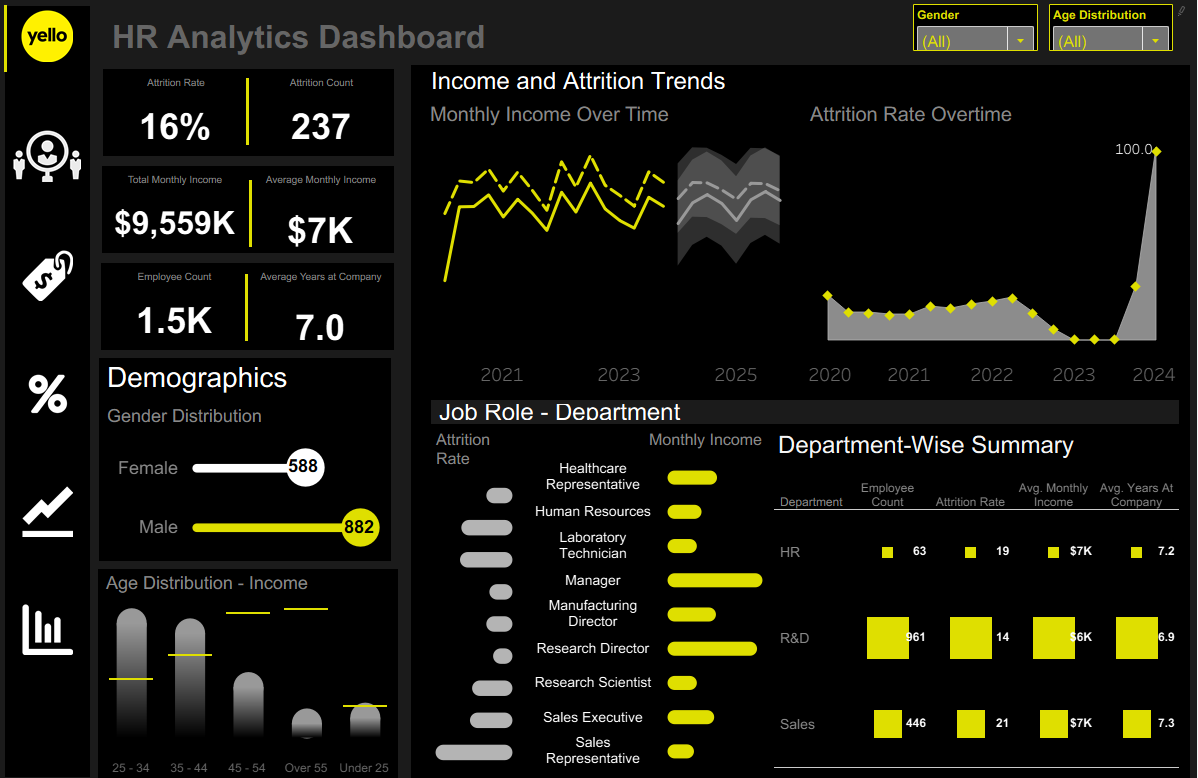

The page's visual inventory and layout, read from the dashboard file:
{"tool":"tableau","page":{"name":"Dashboard 1","canvas":[1200,900],"ordinal":0},"visuals":[{"type":"legend","title":"Gender Distribution","param":"[federated.1jf8b2614a0inf17n2bok13ag4y0].[none:Gender:nk]","box":[0,0,1200,84]},{"type":"filter","title":"Gender Distribution","param":"[federated.1jf8b2614a0inf17n2bok13ag4y0].[none:Gender:nk]","box":[915,10,125,47]},{"type":"filter","title":"Age Distribution - Income","param":"[federated.1jf8b2614a0inf17n2bok13ag4y0].[none:CF_age band:nk]","box":[1051,10,124,47]},{"type":"blank","box":[6,11,3,67]},{"type":"image","param":"Image/Tableau Image 1.png","box":[7,12,85,60]},{"type":"text","box":[106,21,1084,44]},{"type":"blank","box":[7,72,85,60]},{"type":"text","box":[425,74,754,25]},{"type":"worksheet","title":"KPI Rate","mark":"Automatic","box":[105,75,146,87]},{"type":"worksheet","title":"KPI Attrition Count","mark":"Automatic","box":[251,75,145,87]},{"type":"blank","box":[248,84,3,67]},{"type":"worksheet","title":"Monthly Income Over Time","mark":"Automatic","rows":["Monthly Income","Monthly Income"],"cols":["Date"],"box":[424,101,380.5,295]},{"type":"worksheet","title":"Attrition Rate Over Time","mark":"Area","rows":["Calculation_1200772278852063233","Calculation_1200772278852063233"],"cols":["Date"],"box":[804.5,101,380.5,295]},{"type":"image","param":"Image/Tableau Image 2.png","box":[7,132,85,60]},{"type":"worksheet","title":"KPI Total Monthly Income","mark":"Automatic","box":[104,172,146,87]},{"type":"worksheet","title":"KPI AVG Monthly Income","mark":"Automatic","box":[250,172,146,87]},{"type":"blank","box":[251,186,3,67]},{"type":"blank","box":[7,192,85,60]},{"type":"image","param":"Image/Tableau Image 3.png","box":[7,252,85,59]},{"type":"worksheet","title":"KPI Employee Count","mark":"Automatic","box":[103,269,147,87]},{"type":"worksheet","title":"KPI AVG Years at Company","mark":"Automatic","box":[250,269,146,87]},{"type":"blank","box":[247,280,3,67]},{"type":"blank","box":[7,311,85,59]},{"type":"text","box":[101,364,292,40]},{"type":"image","param":"Image/Tableau Image 4.png","box":[7,370,85,59]},{"type":"worksheet","title":"Gender Distribution","mark":"Line","rows":["Gender"],"cols":["Employee Count"],"box":[101,404,292,163]},{"type":"text","box":[433,406,748,24]},{"type":"blank","box":[7,429,85,59]},{"type":"worksheet","title":"Job Role - Department","mark":"Line","rows":["Job Role"],"box":[430,429,91,349]},{"type":"worksheet","title":"Job Role - Department2","mark":"Line","rows":["Job Role"],"box":[521,429,251,349]},{"type":"worksheet","title":"Department-Wise Summary","mark":"Square","rows":["Department"],"box":[772,429,413,349]},{"type":"image","param":"Image/Tableau Image 5.png","box":[7,488,85,59]},{"type":"blank","box":[7,547,85,59]},{"type":"text","box":[100,575,300,29]},{"type":"worksheet","title":"Age Distribution - Income","mark":"Automatic","rows":["Monthly Income"],"cols":["CF_age band"],"box":[100,604,300,184]},{"type":"image","param":"Image/Tableau Image 6.png","box":[7,606,85,59]},{"type":"blank","box":[7,665,85,59]},{"type":"blank","box":[7,724,85,59]}]}

Visuals, with their boxes on the page's 1200x900 design canvas (x1, y1, x2, y2). These are canvas units, not pixel positions in the 1198x778 screenshot, which may show the page scaled, cropped or inside an application window:
"Gender Distribution" legend: crop(0, 0, 1200, 84)
"Gender Distribution" filter: crop(915, 10, 1040, 57)
"Age Distribution - Income" filter: crop(1051, 10, 1175, 57)
blank: crop(6, 11, 9, 78)
image: crop(7, 12, 92, 72)
text: crop(106, 21, 1190, 65)
blank: crop(7, 72, 92, 132)
text: crop(425, 74, 1179, 99)
"KPI Rate" worksheet: crop(105, 75, 251, 162)
"KPI Attrition Count" worksheet: crop(251, 75, 396, 162)
blank: crop(248, 84, 251, 151)
"Monthly Income Over Time" worksheet: crop(424, 101, 804, 396)
"Attrition Rate Over Time" worksheet (Area marks): crop(804, 101, 1185, 396)
image: crop(7, 132, 92, 192)
"KPI Total Monthly Income" worksheet: crop(104, 172, 250, 259)
"KPI AVG Monthly Income" worksheet: crop(250, 172, 396, 259)
blank: crop(251, 186, 254, 253)
blank: crop(7, 192, 92, 252)
image: crop(7, 252, 92, 311)
"KPI Employee Count" worksheet: crop(103, 269, 250, 356)
"KPI AVG Years at Company" worksheet: crop(250, 269, 396, 356)
blank: crop(247, 280, 250, 347)
blank: crop(7, 311, 92, 370)
text: crop(101, 364, 393, 404)
image: crop(7, 370, 92, 429)
"Gender Distribution" worksheet (Line marks): crop(101, 404, 393, 567)
text: crop(433, 406, 1181, 430)
blank: crop(7, 429, 92, 488)
"Job Role - Department" worksheet (Line marks): crop(430, 429, 521, 778)
"Job Role - Department2" worksheet (Line marks): crop(521, 429, 772, 778)
"Department-Wise Summary" worksheet (Square marks): crop(772, 429, 1185, 778)
image: crop(7, 488, 92, 547)
blank: crop(7, 547, 92, 606)
text: crop(100, 575, 400, 604)
"Age Distribution - Income" worksheet: crop(100, 604, 400, 788)
image: crop(7, 606, 92, 665)
blank: crop(7, 665, 92, 724)
blank: crop(7, 724, 92, 783)
